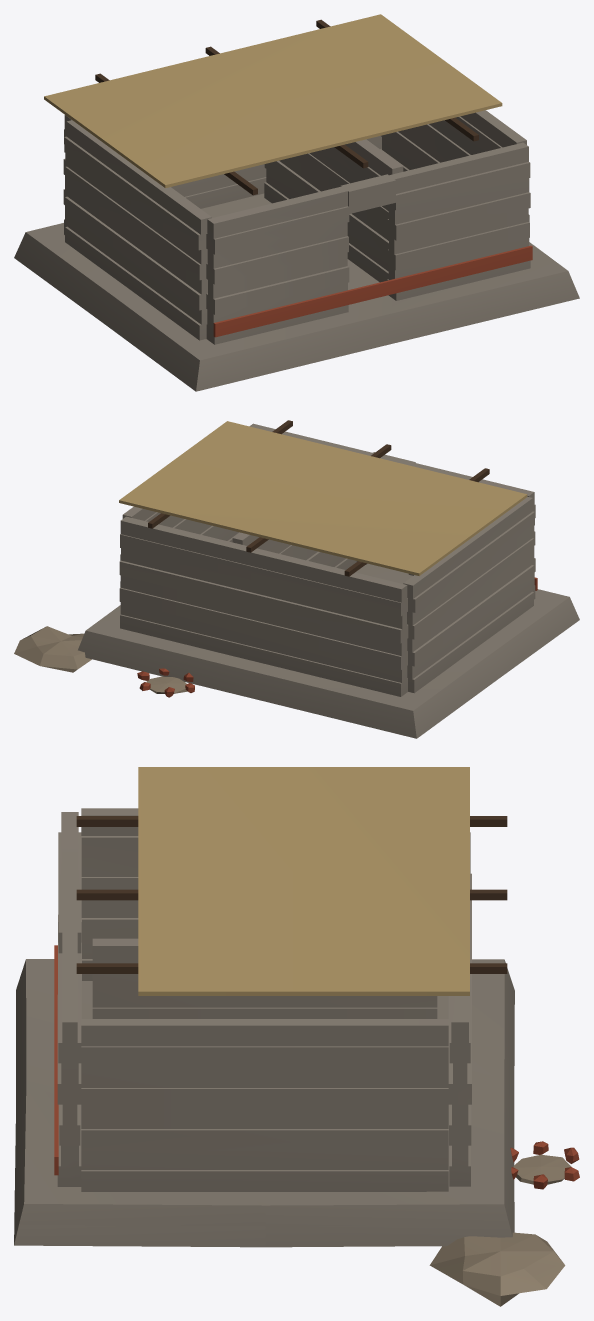
Rendered from caral_house_late_elite_lod0.glb.
3 renders of one model, top to bottom at view 1: azimuth 30°, elevation 25°; view 2: azimuth 150°, elevation 25°; view 3: azimuth 270°, elevation 25°, orthographic. The views are drawn at different scales.
Parts seen in each view (by area): view 1: GEO-Arch_house_late_elite_LOD0; view 2: GEO-Arch_house_late_elite_LOD0; view 3: GEO-Arch_house_late_elite_LOD0.
Part boxes in pixels (<box>): GEO-Arch_house_late_elite_LOD0: <box>14,14,579,391</box>; GEO-Arch_house_late_elite_LOD0: <box>14,420,579,738</box>; GEO-Arch_house_late_elite_LOD0: <box>14,767,579,1306</box>.
Bounding box in the file's own units: 10.59 × 4.12 × 8.41.
